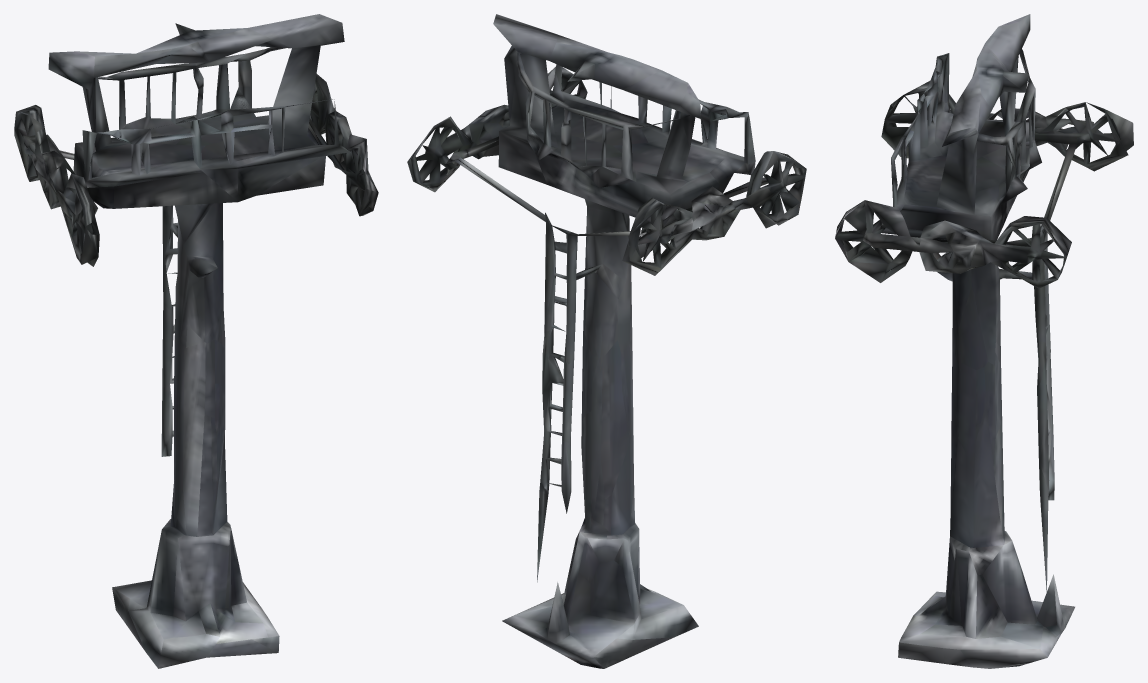
File: dio_lift_tower.glb
3 renders of one model, left to right at view 1: azimuth 30°, elevation 25°; view 2: azimuth 150°, elevation 25°; view 3: azimuth 270°, elevation 25°, orthographic. The views are drawn at different scales.
Visible parts, largest first — view 1: tripo_part_0; view 2: tripo_part_0; view 3: tripo_part_0.
Part boxes in pixels (x1=…): tripo_part_0: x1=14, y1=14, x2=378, y2=668; tripo_part_0: x1=407, y1=14, x2=806, y2=668; tripo_part_0: x1=835, y1=14, x2=1133, y2=668.
Bounding box in the file's own units: 0.1454 × 0.2585 × 0.1226.
Materials: 1 (1 with a texture image).
